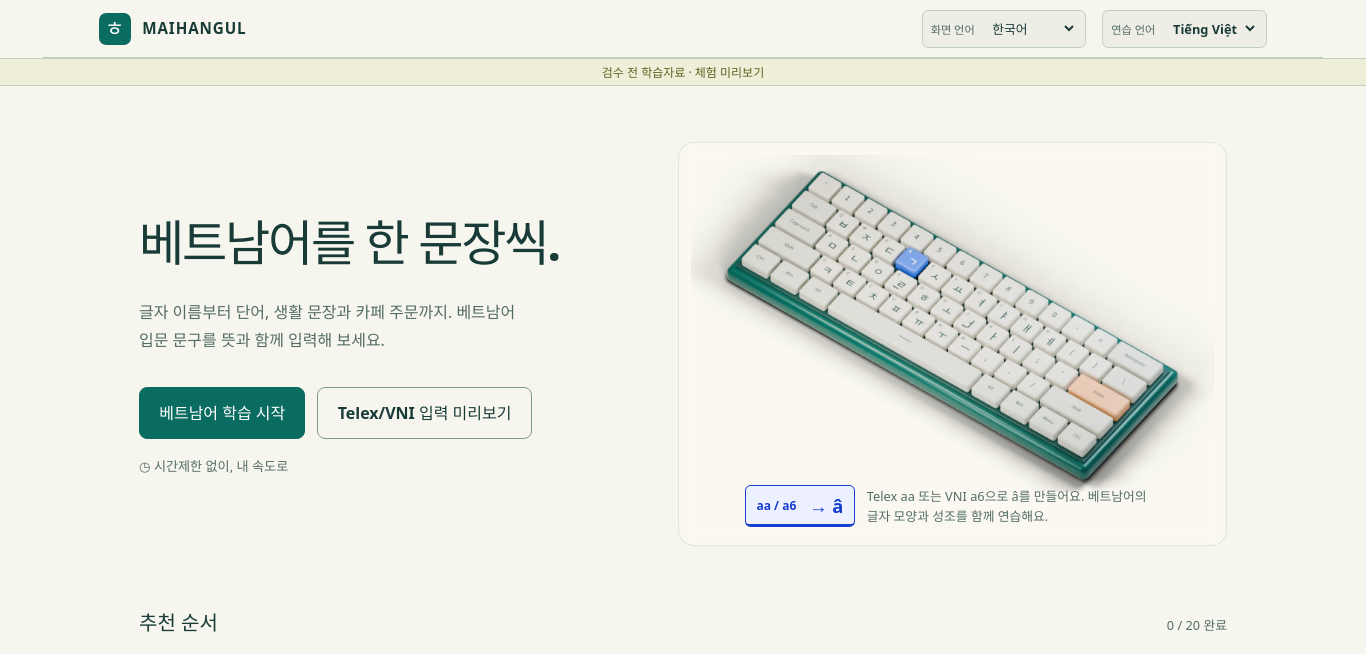
it: guided learning preview (synthetic DOM, not OS IME acceptance) › keeps ko UI independent from vi practice and completes a letter
The image size is (1366, 654).
Step 1. Click the button "베트남어 학습 시작" → (222, 413), box [139, 387, 306, 439]
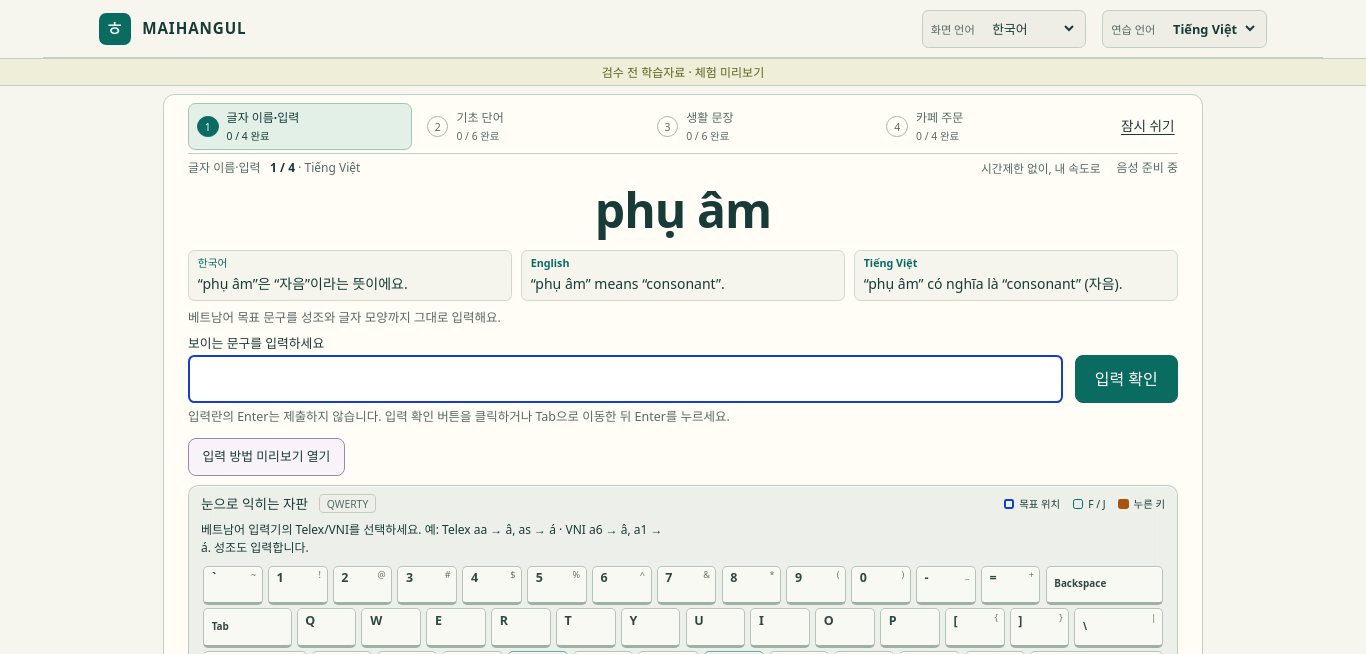
Step 2. Type "phụ âm" into the field → (626, 379), box [188, 355, 1063, 403]
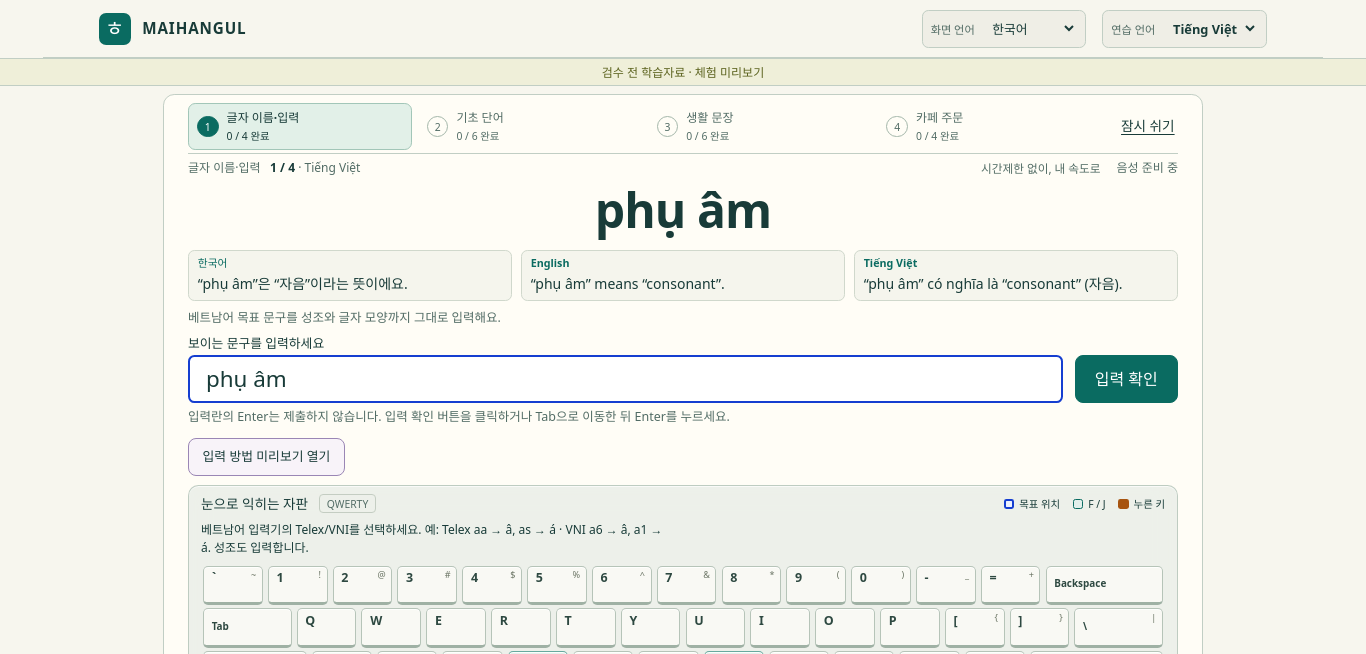
Step 3. Press Enter in the field, box [188, 355, 1063, 403]
expect the button "입력 확인" is shown: met
Step 4. Click the button "입력 확인" → (1126, 379), box [1075, 355, 1178, 403]
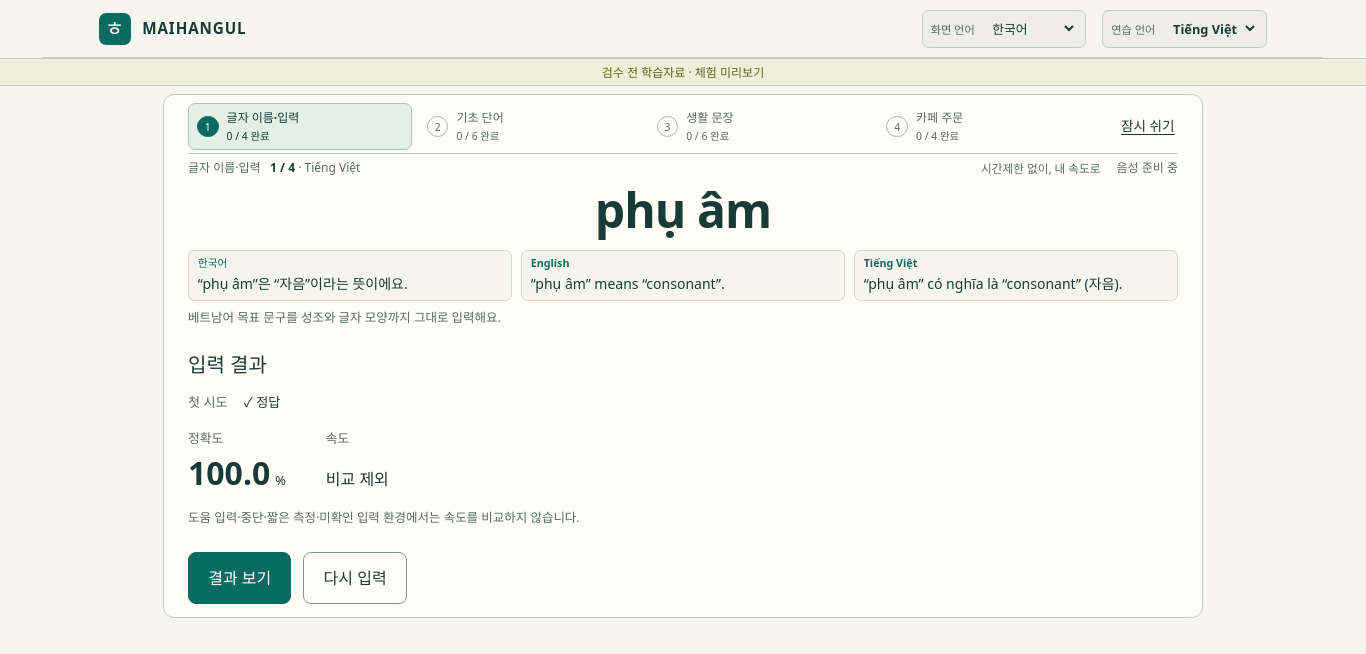
Step 5. Click the button "결과 보기" → (240, 578), box [188, 552, 291, 604]
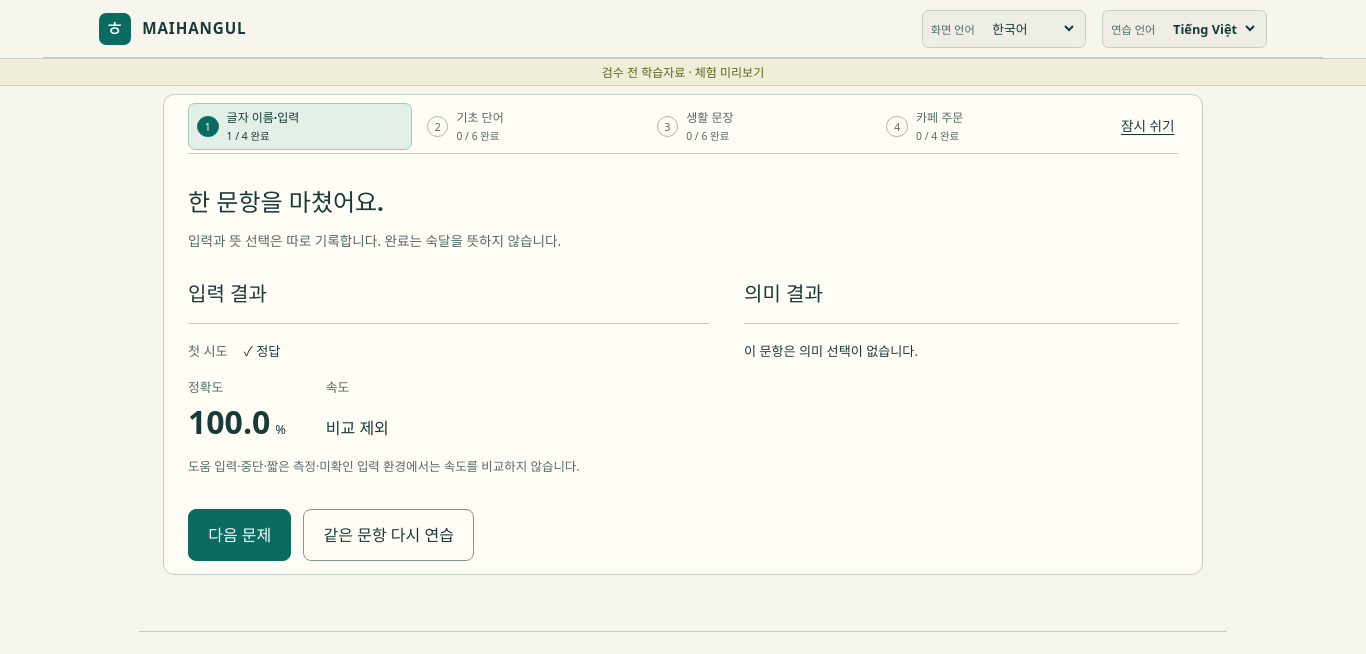
expect the heading "한 문항을 마쳤어요." is shown: met, box [188, 185, 384, 218]
expect the text "이 문항은 의미 선택이 없습니다." is shown: met, box [744, 342, 918, 360]
